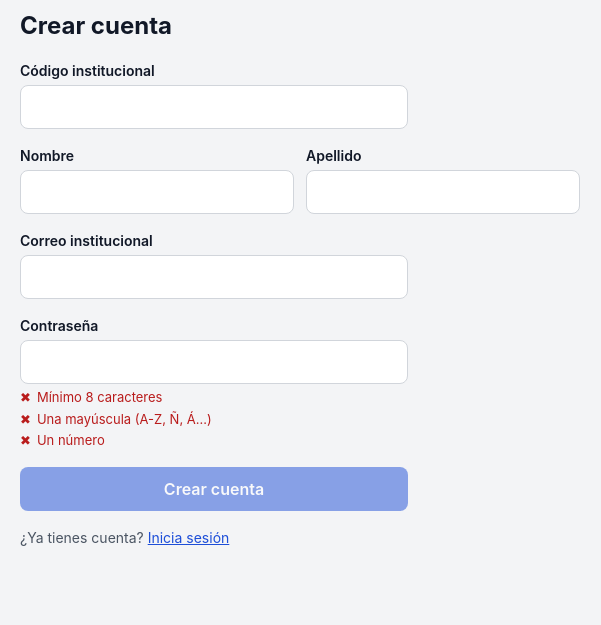
Scenario: RegistroPage (AUTH-17 · CA-5, CA-8) › [AUTH-17] CA-7: el 409 del servidor se muestra como alerta general y no guarda sesión
In the field labelled "Código institucional": point(214, 107) x1=20 y1=85 x2=408 y2=129, type "U20261045"
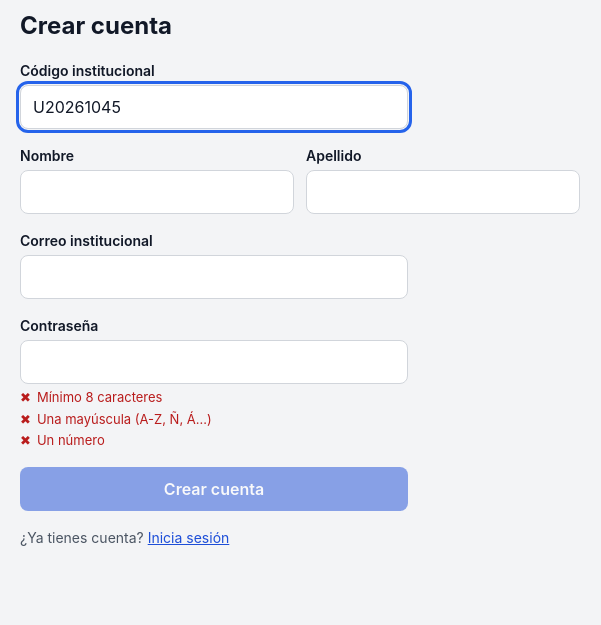
In the field labelled "Nombre": point(157, 192) x1=20 y1=170 x2=294 y2=214, type "Juan"
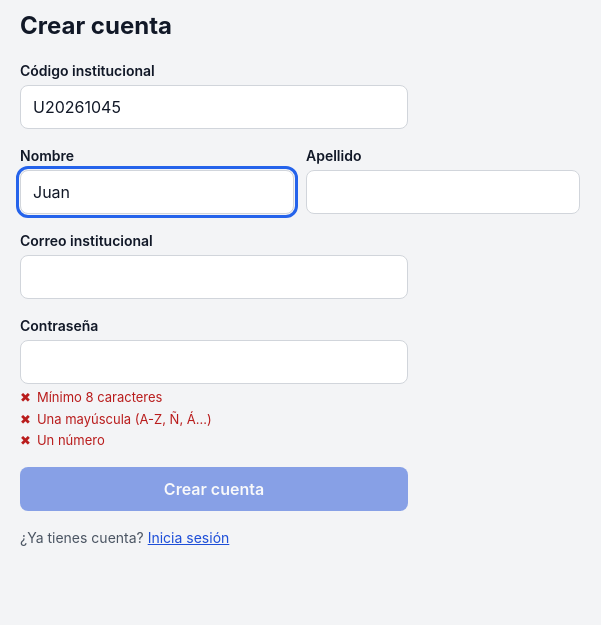
In the field labelled "Apellido": point(443, 192) x1=306 y1=170 x2=580 y2=214, type "Pérez"
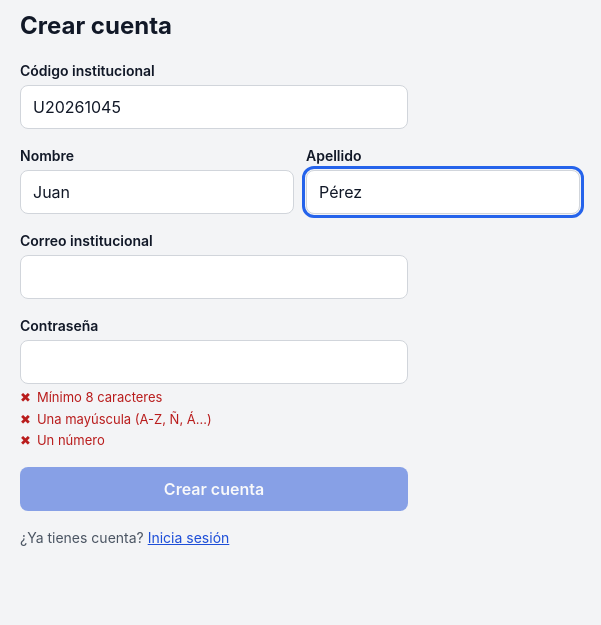
In the field labelled "Correo institucional": point(214, 277) x1=20 y1=255 x2=408 y2=299, type "juan@universidad.edu"
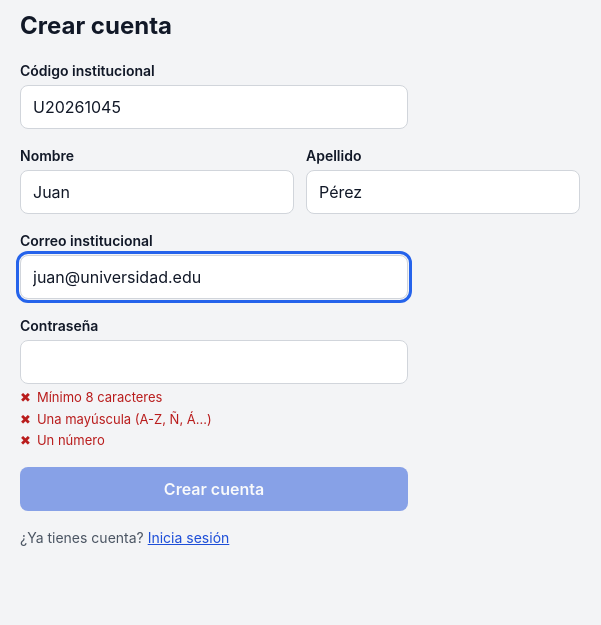
In the password field labelled "Contraseña": point(214, 362) x1=20 y1=340 x2=408 y2=384, type "Password123"
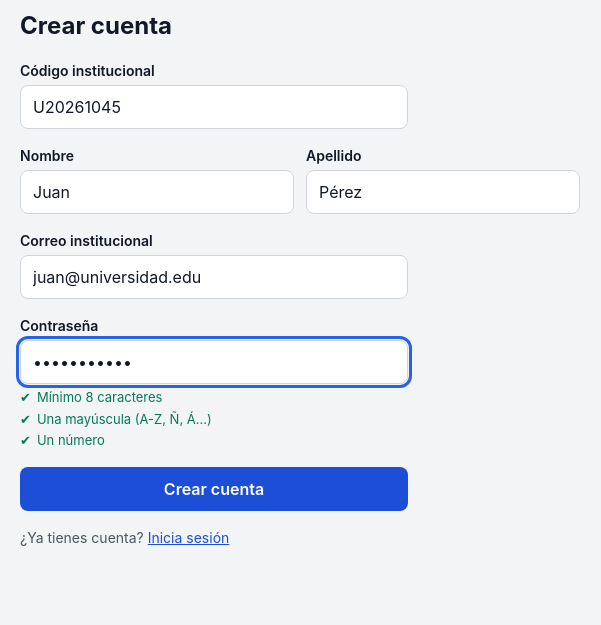
Click the button "Crear cuenta": point(214, 488) x1=20 y1=466 x2=408 y2=510
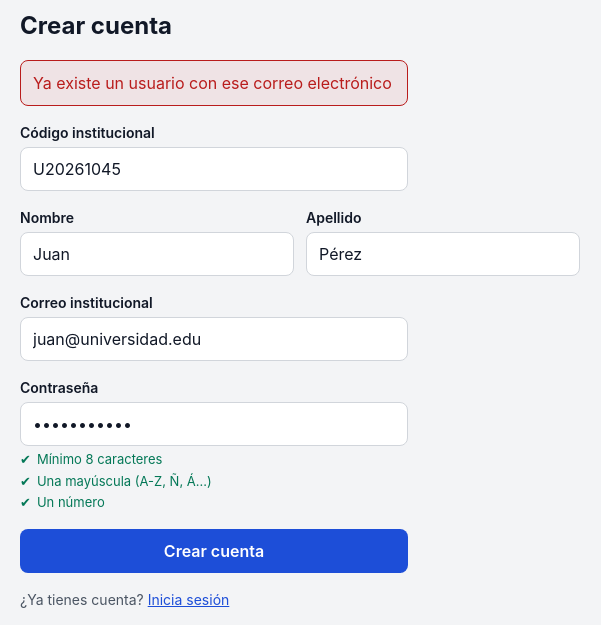
Expected: the message reads "Ya existe un usuario con ese correo electrónico", x1=33 y1=73 x2=392 y2=93
